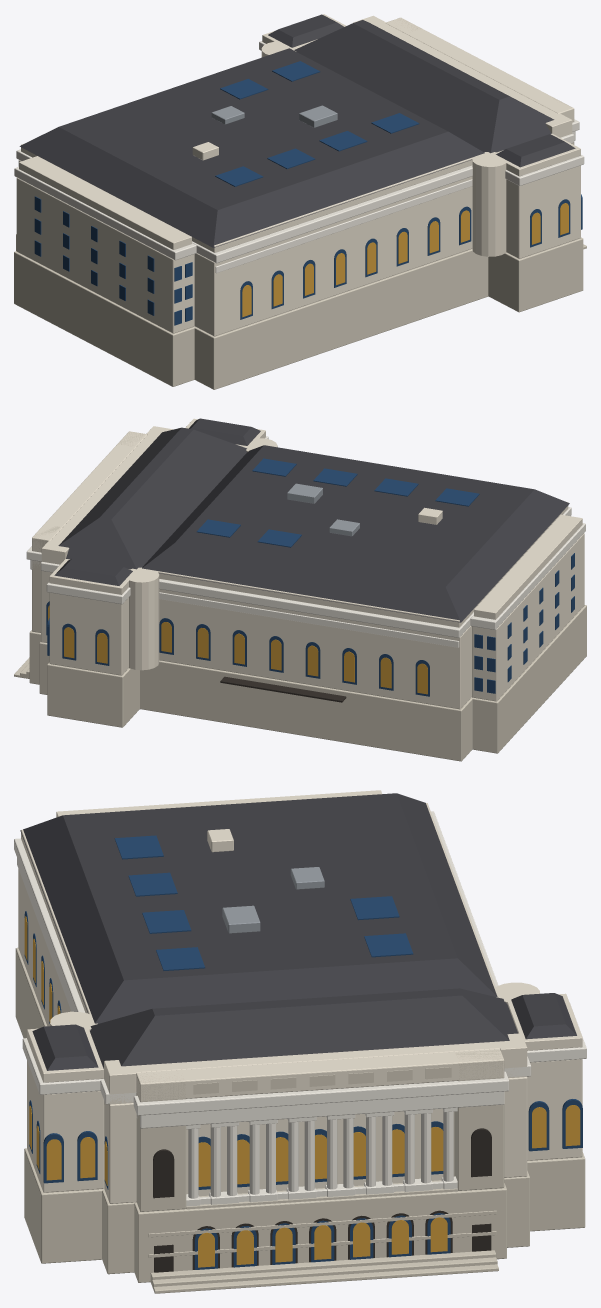
File: herbst-theatre.glb
3 renders of one model, top to bottom at view 1: azimuth 30°, elevation 25°; view 2: azimuth 150°, elevation 25°; view 3: azimuth 270°, elevation 25°, orthographic. The views are drawn at different scales.
Parts seen in each view (by area): view 1: roof_main, base_main, main_block, roof_front, rear_block, base_rear, base_wing, wing_s, rear_parapet, quadrant_s, main_cornice, attic_front (+15 smaller); view 2: roof_main, main_block, base_main, roof_front, rear_block, base_rear, wing_n, base_wing, main_cornice, rear_parapet, quadrant_n, main_parapet (+20 smaller); view 3: roof_main, roof_front, base_front, front_core, base_wing, attic_front, cornice_front, wing_s, entablature, base_shldr, pavilion_n, pavilion_s (+45 smaller).
Part boxes in pixels (bbox=[...]): roof_main: bbox=[19, 48, 484, 247]; base_main: bbox=[16, 234, 488, 389]; main_block: bbox=[18, 160, 472, 336]; roof_front: bbox=[294, 20, 554, 153]; rear_block: bbox=[16, 177, 194, 333]; base_rear: bbox=[14, 251, 194, 386]; base_wing: bbox=[488, 237, 583, 312]; wing_s: bbox=[506, 165, 580, 258]; rear_parapet: bbox=[19, 156, 191, 249]; quadrant_s: bbox=[472, 152, 507, 256]; main_cornice: bbox=[16, 149, 472, 263]; attic_front: bbox=[385, 17, 574, 121]; roof_main: bbox=[142, 445, 569, 622]; main_block: bbox=[159, 589, 471, 709]; base_main: bbox=[140, 660, 472, 761]; roof_front: bbox=[58, 427, 246, 569]; rear_block: bbox=[472, 533, 584, 701]; base_rear: bbox=[471, 605, 586, 753]; wing_n: bbox=[49, 592, 128, 675]; base_wing: bbox=[47, 662, 139, 727]; main_cornice: bbox=[159, 507, 571, 637]; rear_parapet: bbox=[474, 514, 582, 619]; quadrant_n: bbox=[126, 567, 159, 670]; main_parapet: bbox=[142, 501, 568, 627]; roof_main: bbox=[20, 793, 497, 1023]; roof_front: bbox=[90, 988, 517, 1068]; base_front: bbox=[134, 1183, 506, 1282]; front_core: bbox=[104, 1077, 527, 1203]; base_wing: bbox=[24, 1144, 585, 1263]; attic_front: bbox=[136, 1049, 504, 1101]; cornice_front: bbox=[133, 1071, 509, 1115]; wing_s: bbox=[27, 1061, 103, 1192]; entablature: bbox=[136, 1091, 504, 1128]; base_shldr: bbox=[102, 1171, 529, 1274]; pavilion_n: bbox=[454, 1050, 504, 1190]; pavilion_s: bbox=[136, 1073, 186, 1211].
Bounding box in the file's own units: 92.53 × 31 × 70.71.
